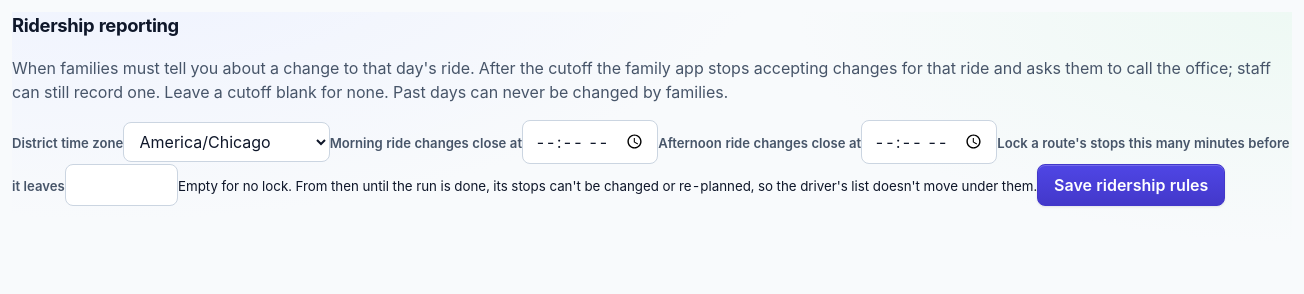
Scenario: RidershipRulesSection › saves cutoffs as minutes of the day, and a blank one as none
Select "America/Denver" in the dropdown labelled "District time zone" at (226, 142), box [123,122,330,162]
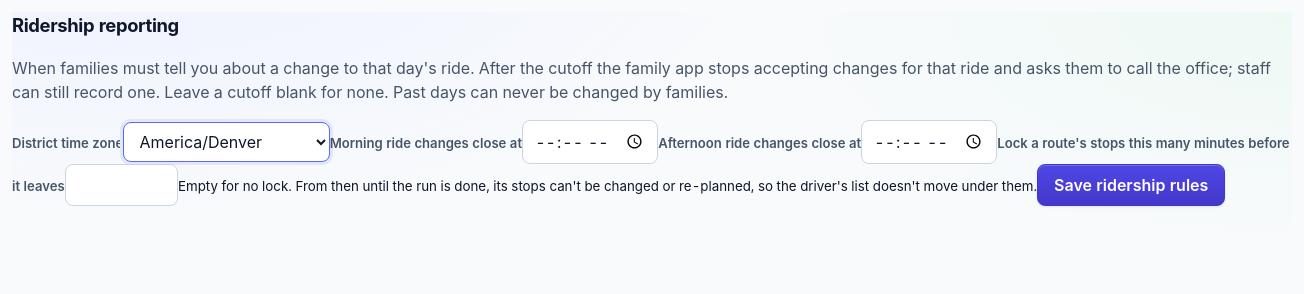
Type "05:45" into the time field labelled "Morning ride changes close at" at (590, 142), box [522,120,658,164]
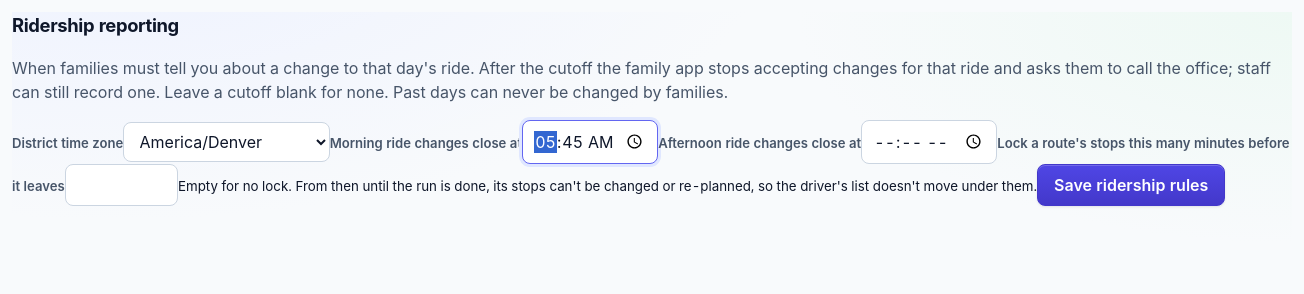
Click the button "Save ridership rules" at (1131, 185), box [1037,164,1225,206]
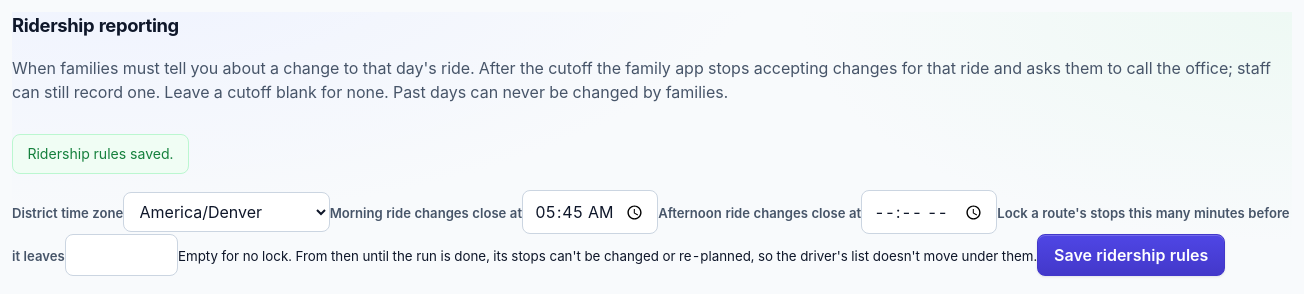
Expected: the text "Ridership rules saved." is shown, [12,134,189,174]
